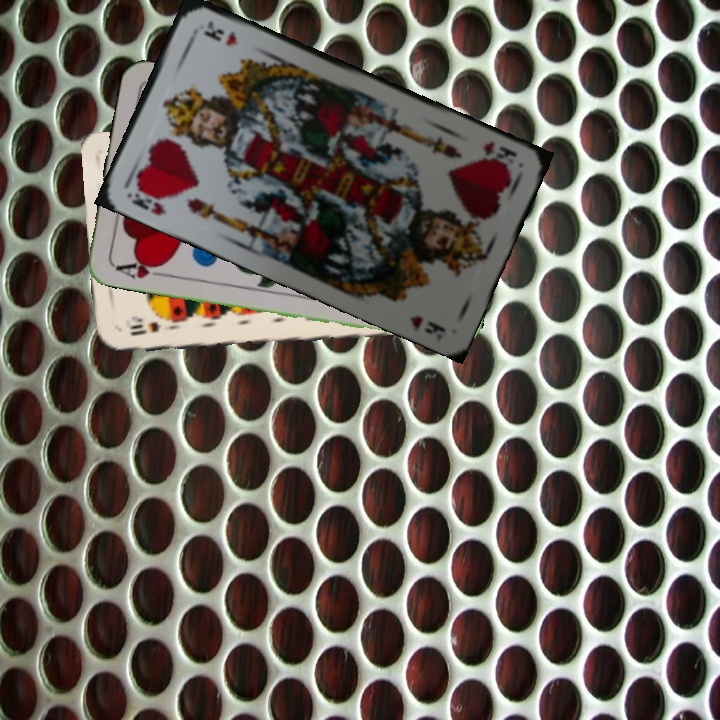HA: (111, 255, 170, 281)
HK: (125, 181, 169, 218), (479, 137, 520, 173)
S10: (126, 319, 164, 339)
